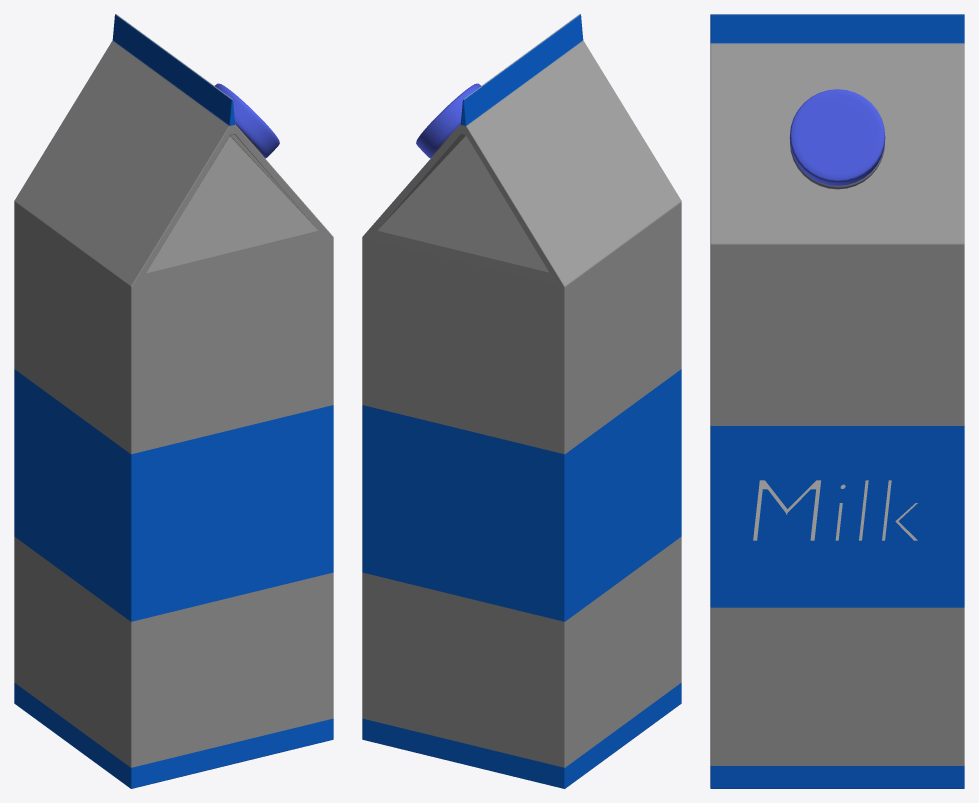
The model's file is carton milk.fbx.
3 renders of one model, left to right at view 1: azimuth 30°, elevation 25°; view 2: azimuth 150°, elevation 25°; view 3: azimuth 270°, elevation 25°, orthographic. The views are drawn at different scales.
Visible parts, largest first — view 1: Cube, Cylinder; view 2: Cube, Cylinder; view 3: Cube, Cylinder, Text.
Boxes of the visible parts, x1,y1,x2,y2 form: Cube: [14, 14, 333, 788]; Cylinder: [215, 83, 279, 158]; Cube: [362, 14, 681, 788]; Cylinder: [416, 83, 480, 158]; Cube: [710, 14, 964, 788]; Cylinder: [789, 89, 885, 189]; Text: [753, 480, 917, 540].
Size of the model in its own units: 142 by 444 by 142.
